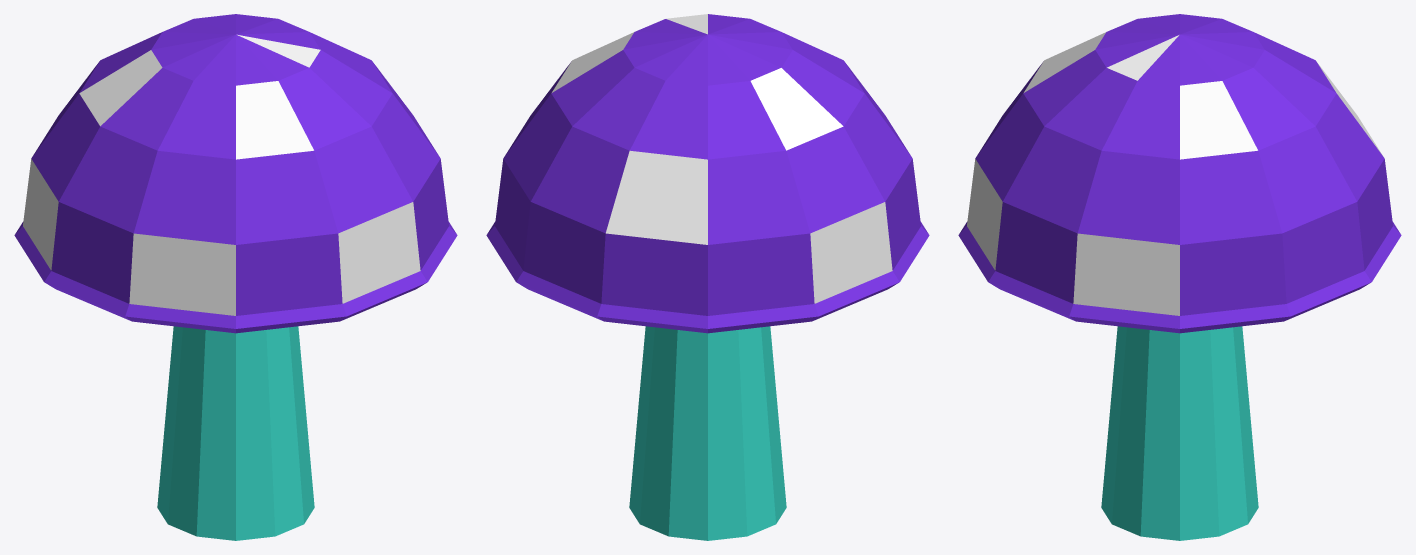
Rendered from NewMushroom.fbx.
The picture shows the model from 3 angles, left to right: view 1: azimuth 30°, elevation 25°; view 2: azimuth 150°, elevation 25°; view 3: azimuth 270°, elevation 25°; orthographic projection.
Parts seen in each view (by area): view 1: Sphere.002; view 2: Sphere.002; view 3: Sphere.002.
Boxes of the visible parts, left/top/right/bottom form: Sphere.002: left=14, top=14, right=457, bottom=540; Sphere.002: left=486, top=14, right=929, bottom=540; Sphere.002: left=958, top=14, right=1401, bottom=540.
Size of the model in its own units: 129 by 152 by 129.
